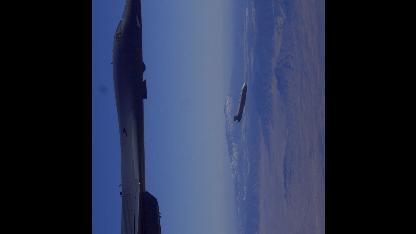AV8B: (108, 0, 162, 233)
